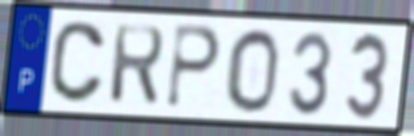3: (342, 29, 392, 123), (286, 29, 335, 118)
C: (47, 19, 107, 106)
O: (224, 26, 281, 115)
P: (163, 21, 224, 113)
R: (107, 22, 167, 109)
